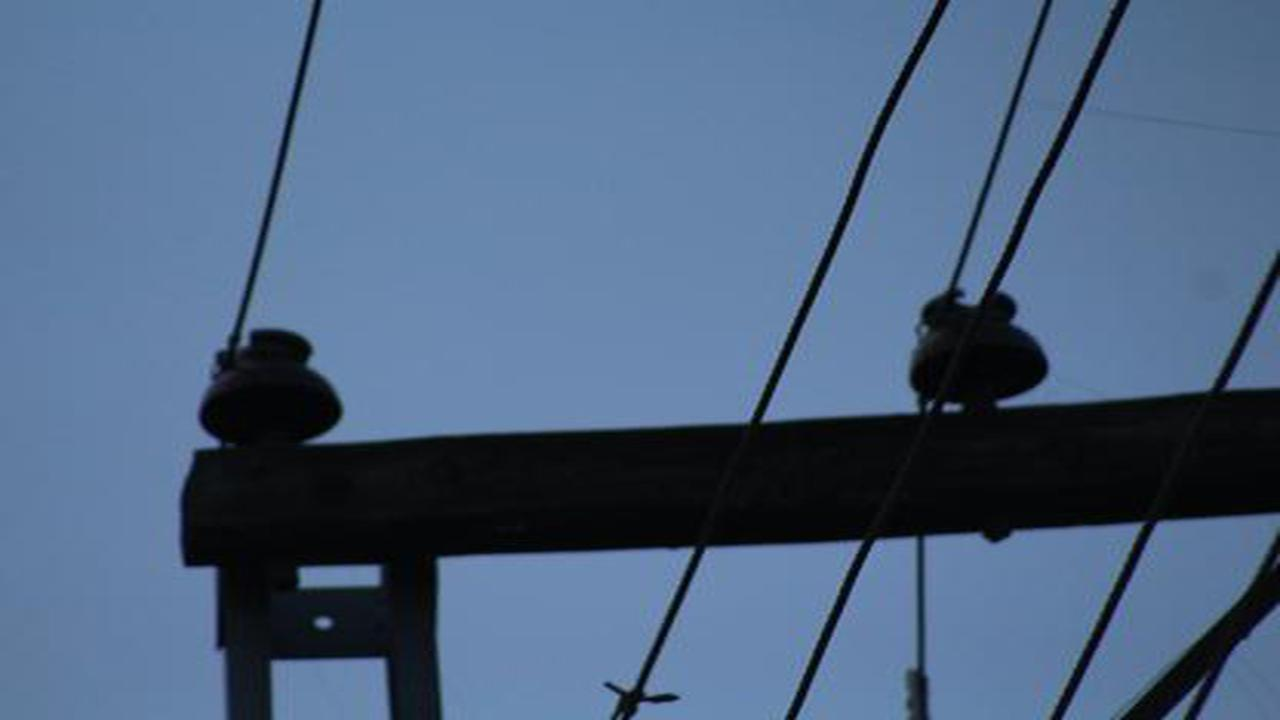insulator_pin: (901, 281, 1061, 419), (193, 320, 351, 449)
